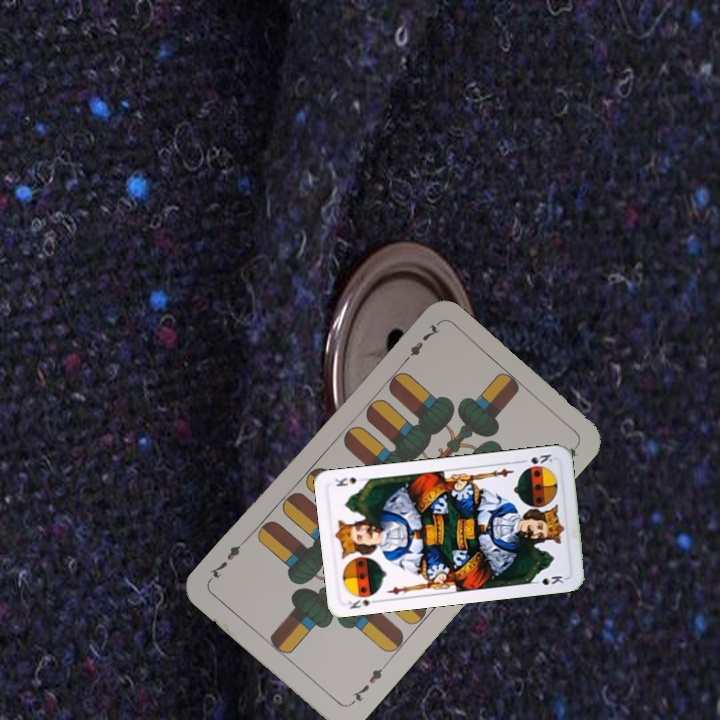E7: (398, 319, 443, 368), (346, 659, 390, 708)
SK: (516, 450, 555, 467), (345, 595, 382, 612)
